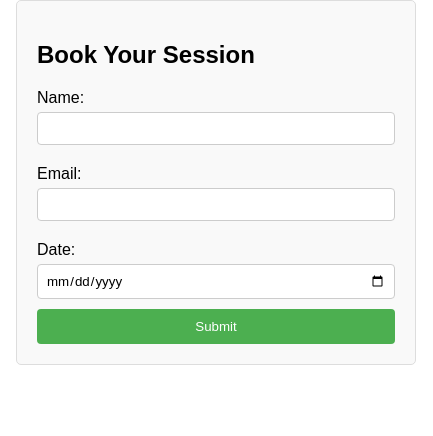
Test case: BookingForm › displays error messages when required fields are empty
This screenshot has width=433, height=436.
Click the button "Submit": (216, 327) [37,309,395,344]
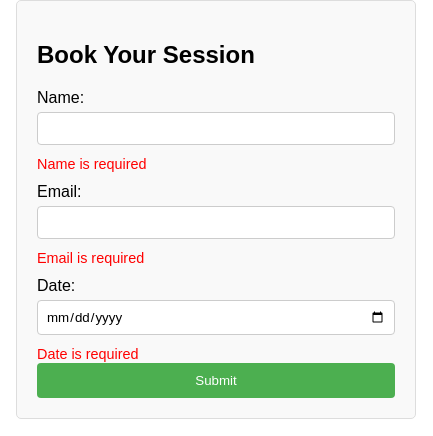
Now the text "Name is required" is shown, box [37,156,147,172]
Now the text "Email is required" is shown, box [37,250,144,266]
Now the text "Date is required" is shown, box [37,346,139,362]
